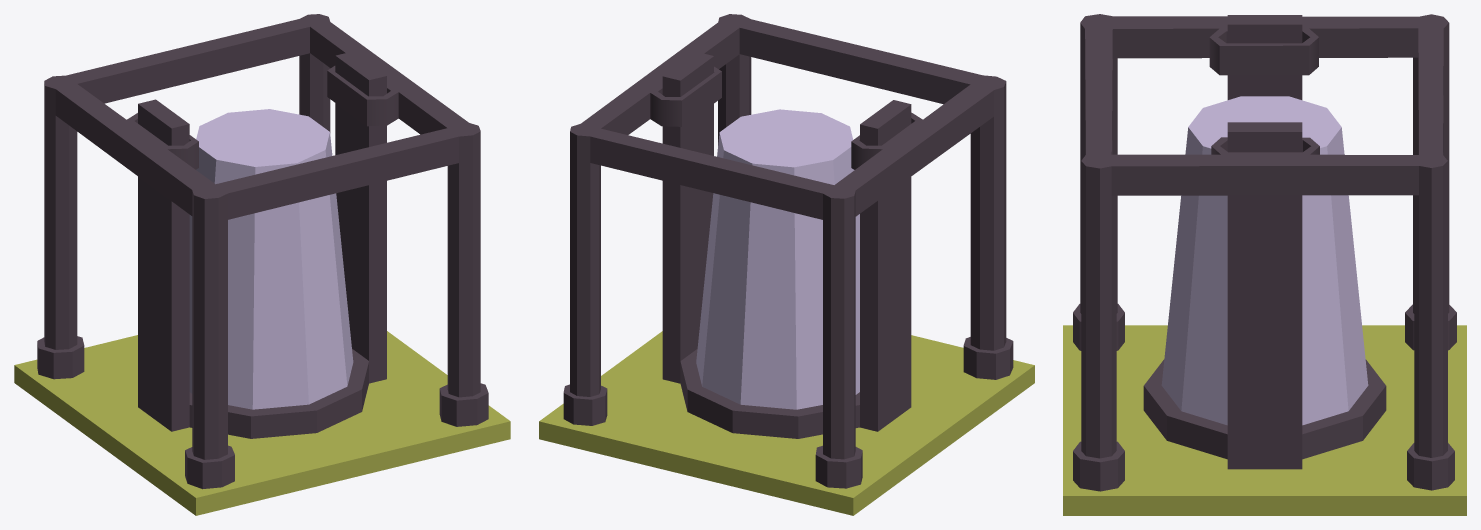
Rendered from breedingpod.fbx.
3 renders of one model, left to right at view 1: azimuth 30°, elevation 25°; view 2: azimuth 150°, elevation 25°; view 3: azimuth 270°, elevation 25°, orthographic. The views are drawn at different scales.
Visible parts, largest first — view 1: pCube5, pCylinder1; view 2: pCube5, pCylinder1; view 3: pCube5, pCylinder1.
Part boxes in pixels (box(x1,y1,x2,y2)): pCube5: box(14, 14, 510, 515); pCylinder1: box(138, 51, 386, 438); pCube5: box(539, 14, 1034, 515); pCylinder1: box(662, 51, 911, 438); pCube5: box(1063, 14, 1466, 515); pCylinder1: box(1143, 15, 1386, 469).
Bounding box in the file's own units: 18.36 × 17.91 × 18.36.
Materials: 2 (2 with a texture image).
